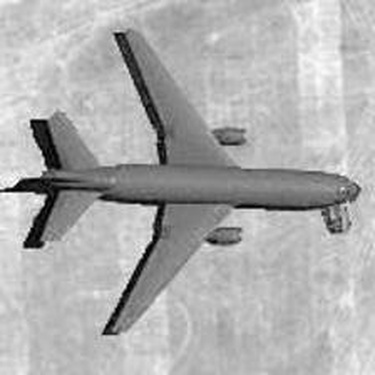airplane: (17, 18, 368, 340)
